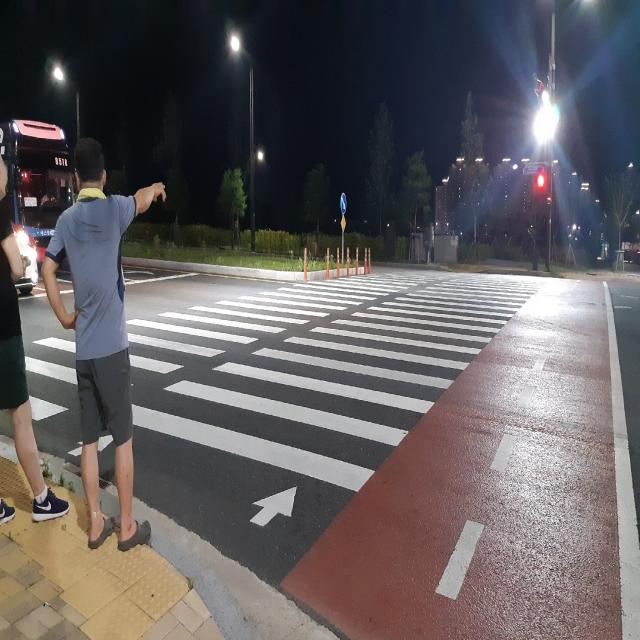빨간불: (536, 171, 547, 213)
횡단보도: (24, 269, 546, 527)
